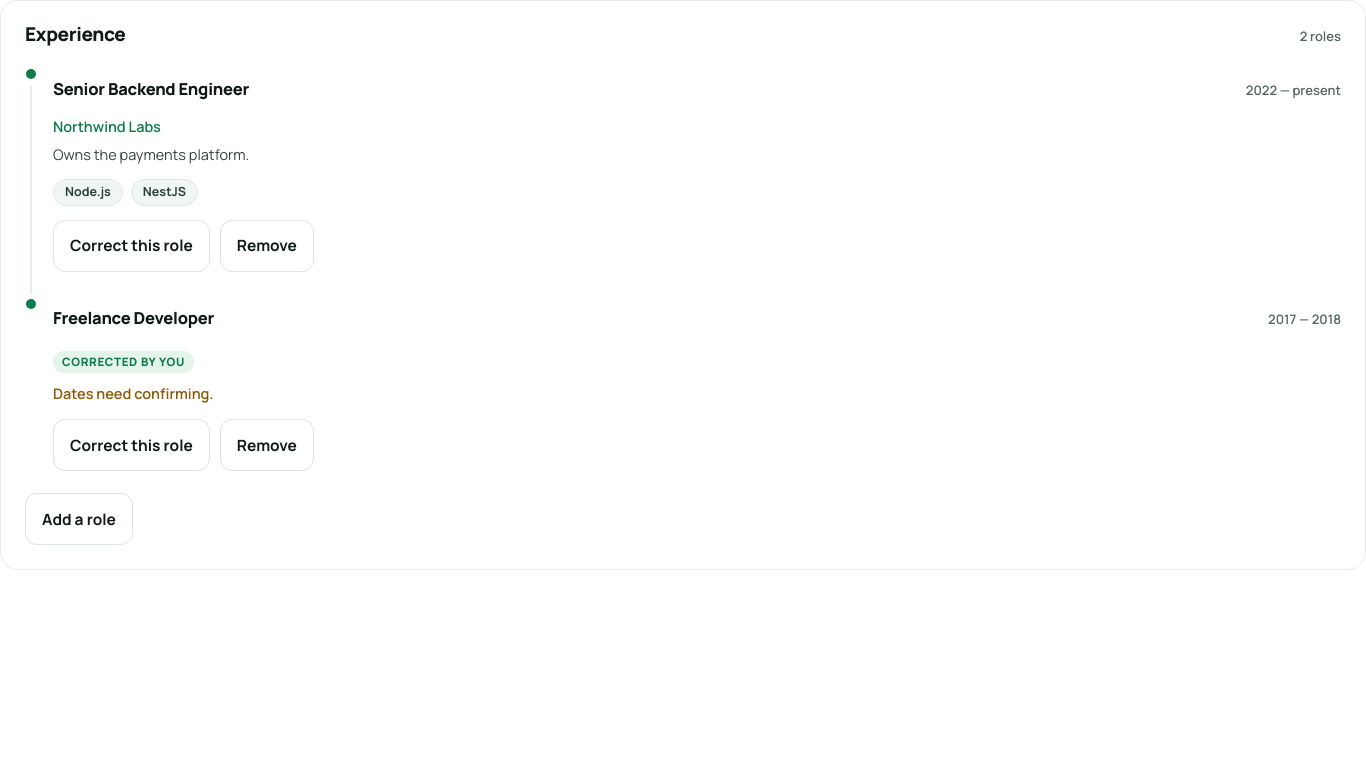
Scenario: ExperienceCorrections › opens one role at a time, with the months the Experience carries and not the ones on screen
The image size is (1366, 768).
Click the button with aria-label "Correct this role: Senior Backend Engineer".
click(131, 246)  # box [53,220,210,272]
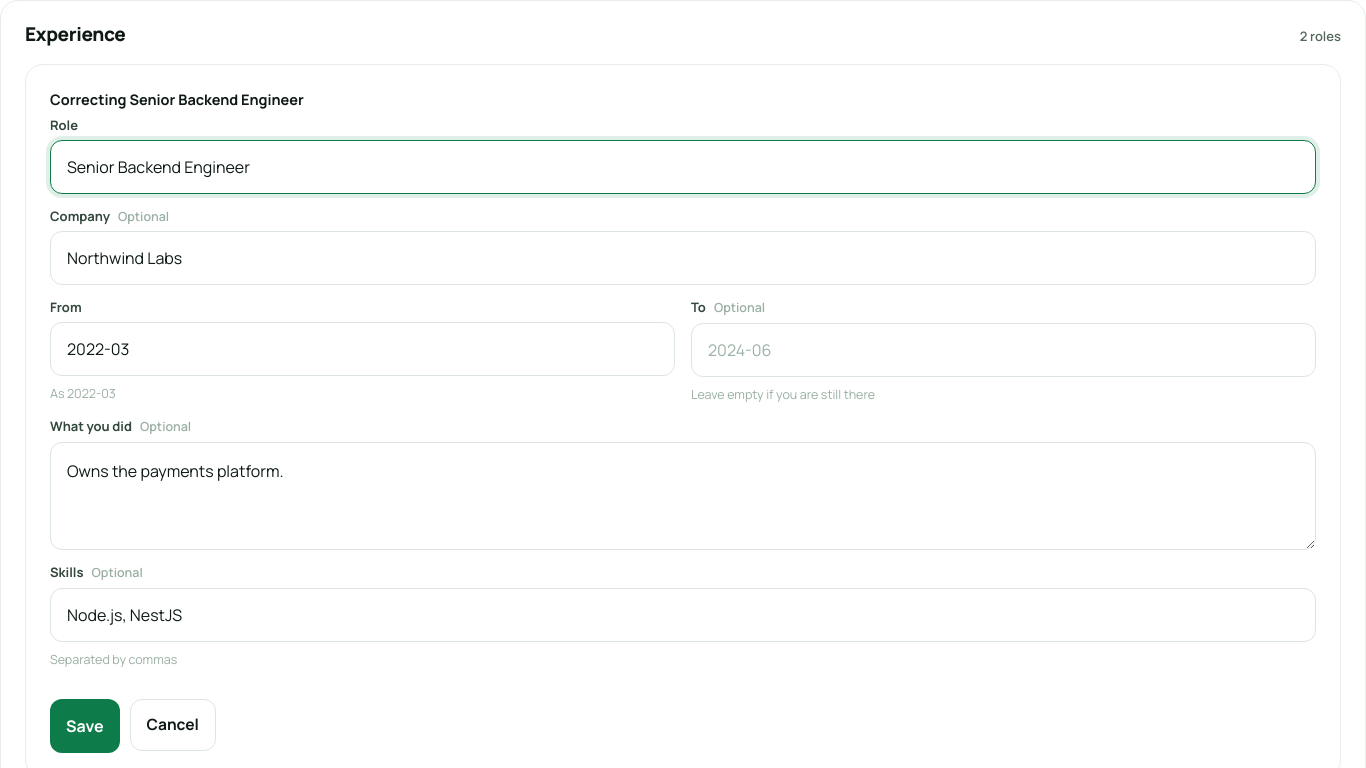
expect the element "Correcting Senior Backend Engineer" is shown: met
expect the field labelled "From" holds "2022-03": met, box [50,322,675,376]
expect the field labelled "To" is empty: met, box [691,323,1316,377]
